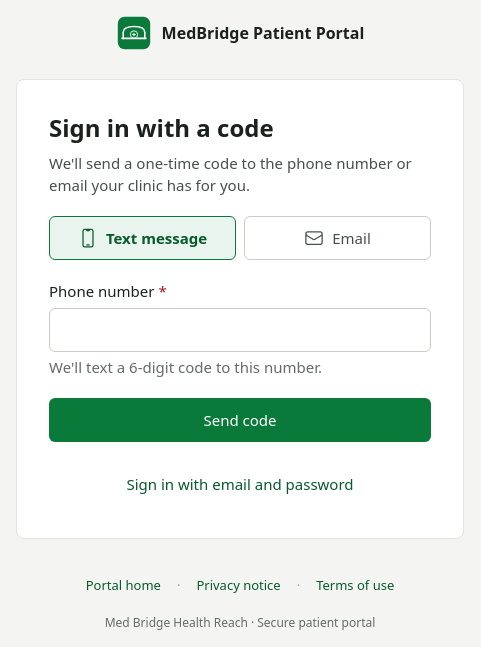
Test: PortalCodeSignIn › asks for every digit before checking the code
Type "0803 123 4567" into the field labelled "Phone number*".
click(240, 330); type("0803 123 4567")  # box [49,308,431,352]
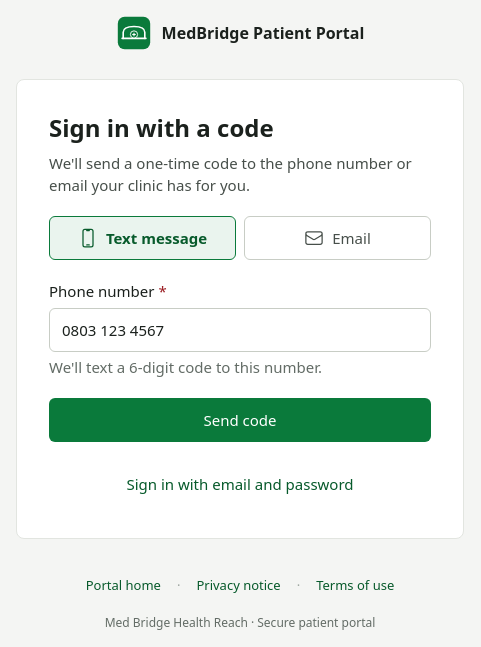
Click the button "Send code".
click(240, 420)  # box [49,398,431,442]
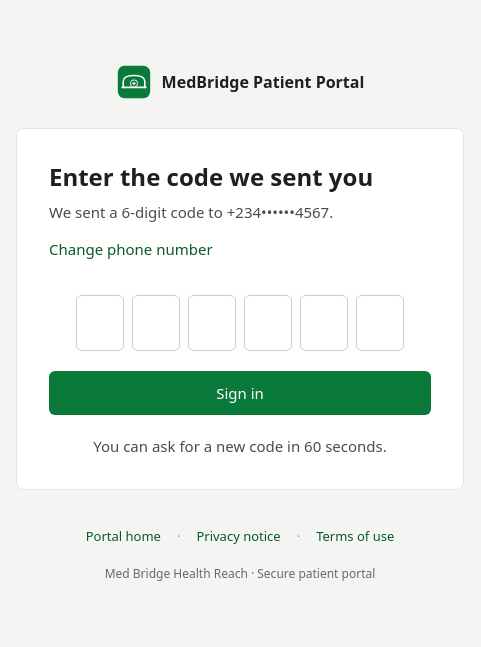
Expected: the heading "Enter the code we sent you" is shown, [49,160,373,193]
Type "1" into the field named "Digit 1 of 6".
click(100, 323); type("1")  # box [76,295,124,351]
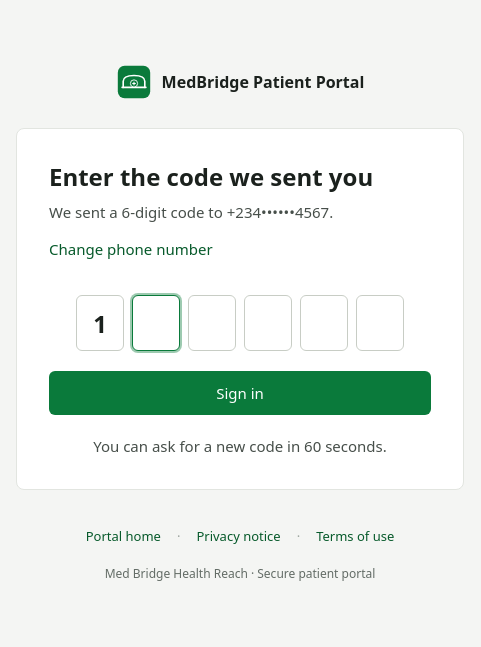
Type "2" into the field named "Digit 2 of 6".
click(156, 323); type("2")  # box [132,295,180,351]
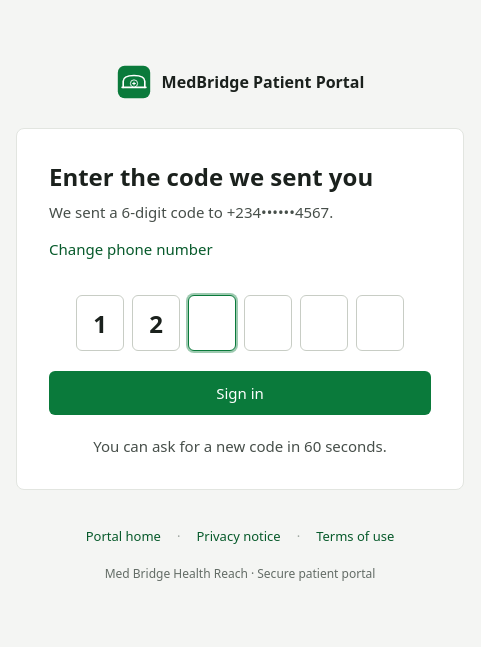
Type "3" into the field named "Digit 3 of 6".
click(212, 323); type("3")  # box [188,295,236,351]
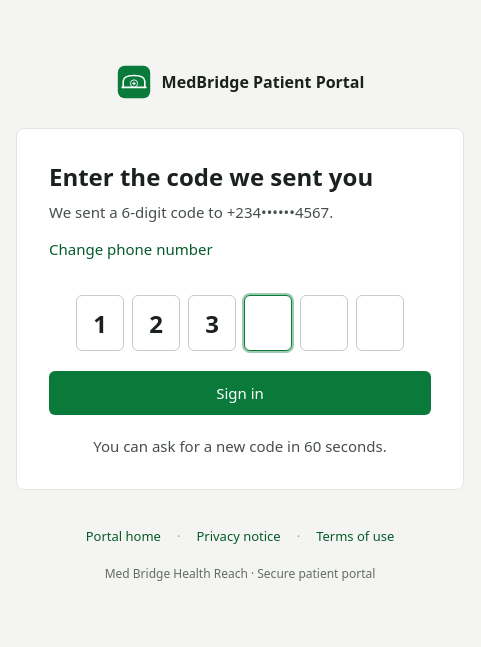
Click the button "Sign in".
click(240, 393)  # box [49,371,431,415]
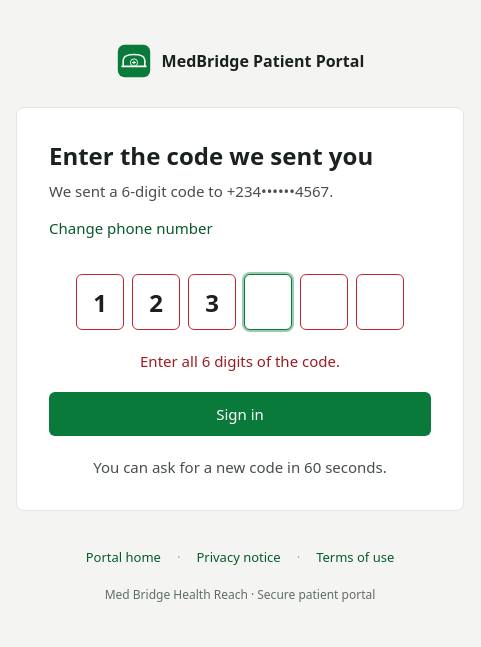
Expected: the text "Enter all 6 digits of the code." is shown, [140,351,340,371]
